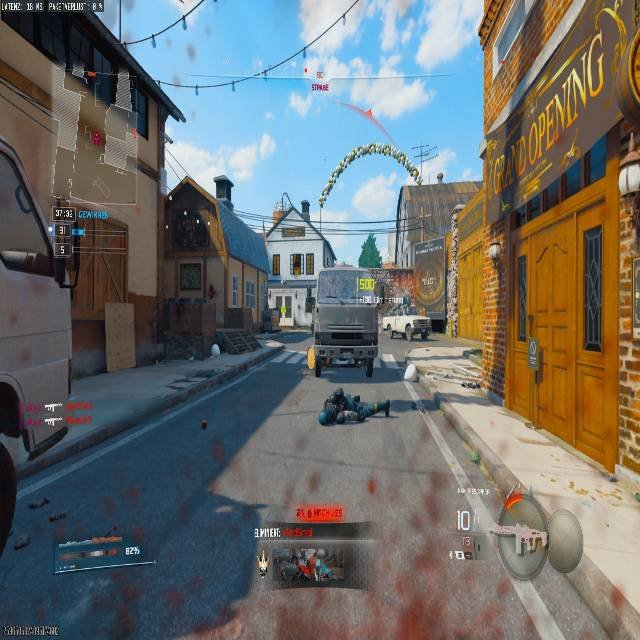head: (317, 406, 336, 426)
